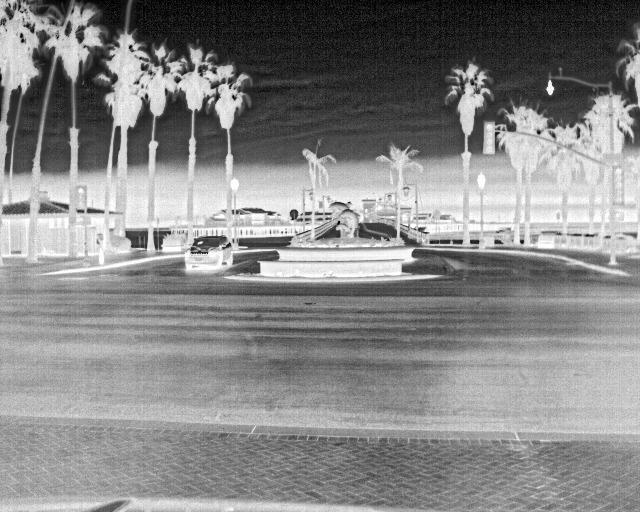car: (184, 235, 235, 271)
